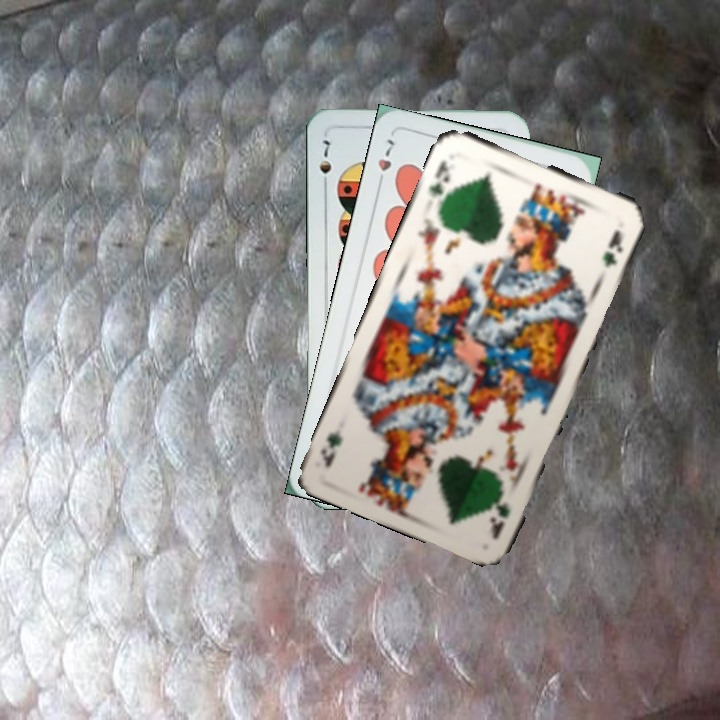GK: (486, 486, 512, 542), (424, 156, 453, 200)
H7: (373, 134, 398, 190)
S7: (315, 136, 334, 193)
